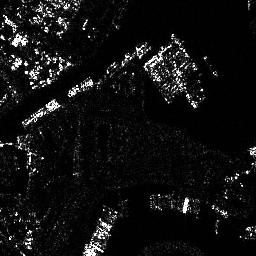ship: (65, 75, 94, 97)
